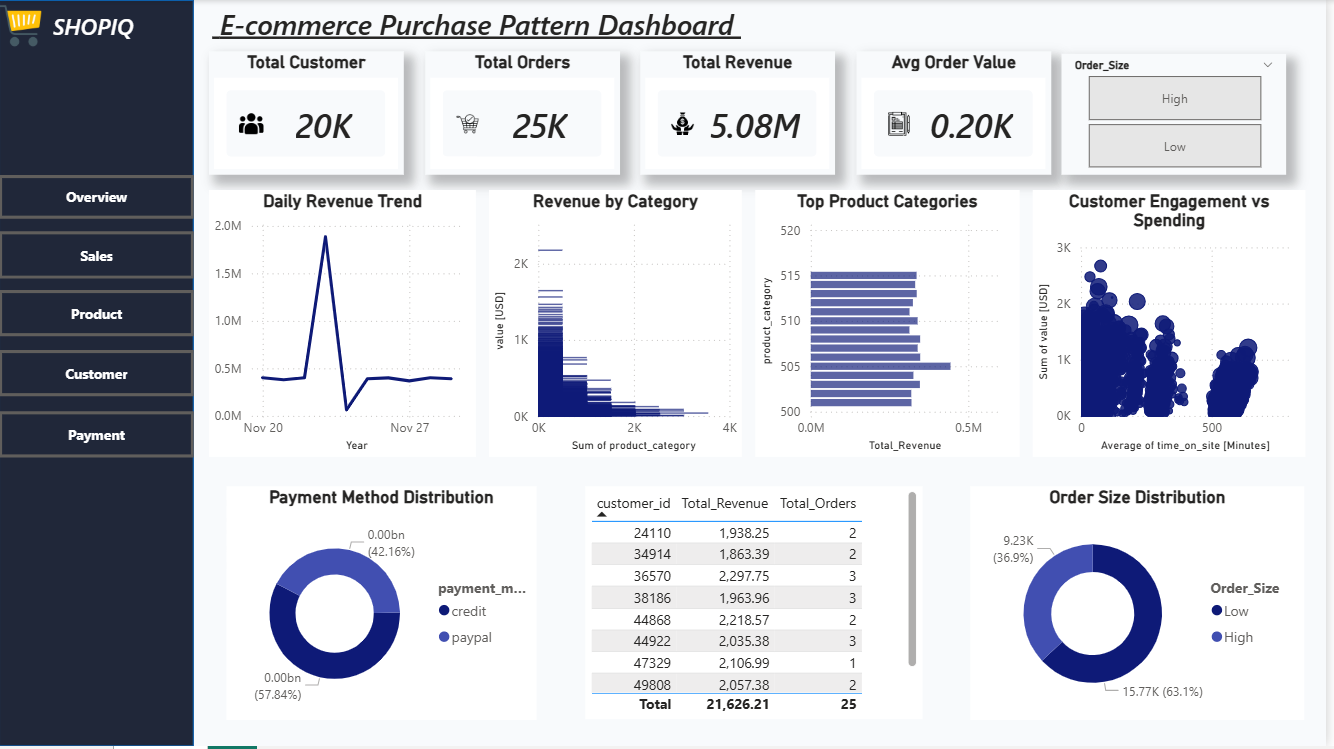

The dashboard page shown, as its layout file describes it:
{"tool":"powerbi","page":{"name":"Page 1","canvas":[1280,720],"ordinal":0},"visuals":[{"type":"shape","box":[0,0,188,720.4],"z":0},{"type":"textbox","box":[0,0,188,49.4],"z":1000},{"type":"image","box":[0,0,41.2,49.4],"z":2000},{"type":"textbox","box":[190.7,0,540.7,64.5],"z":8000},{"type":"cardVisual","title":"Total Customer","fields":{"Data":["purchase_data_exe.Total_Customers"]},"box":[203.1,49.4,188,119.4],"z":9000},{"type":"cardVisual","title":"Total Orders","fields":{"Data":["purchase_data_exe.Total_Orders"]},"box":[411.2,49.4,188,119.4],"z":10000},{"type":"cardVisual","title":"Total Revenue","fields":{"Data":["purchase_data_exe.Total_Revenue"]},"box":[619.3,49.4,188,119.4],"z":11000},{"type":"cardVisual","title":"Avg Order Value","fields":{"Data":["purchase_data_exe.Avg_Order_Value"]},"box":[827.4,49.4,188,119.4],"z":12000},{"type":"lineChart","title":"Daily Revenue Trend","fields":{"Y":["purchase_data_exe.Total_Revenue"],"Category":["purchase_data_exe.Date.Variation.Date Hierarchy.Year","purchase_data_exe.Date.Variation.Date Hierarchy.Quarter","purchase_data_exe.Date.Variation.Date Hierarchy.Month","purchase_data_exe.Date.Variation.Date Hierarchy.Day"]},"box":[203.1,183.9,258,258],"z":13000},{"type":"barChart","title":"Revenue by Category","fields":{"Y":["Sum(purchase_data_exe.product_category)"],"Category":["purchase_data_exe.value [USD]"]},"box":[473.4,183.9,244.3,258],"z":14000},{"type":"donutChart","title":"Payment Method Distribution","fields":{"Category":["purchase_data_exe.payment_method"],"Y":["CountNonNull(purchase_data_exe.customer_id)"]},"box":[219.8,468.9,299.1,225.4],"z":15000},{"type":"donutChart","title":"Order Size Distribution","fields":{"Category":["purchase_data_exe.Order_Size"],"Y":["CountNonNull(purchase_data_exe.customer_id)"]},"box":[937.7,468.9,322.8,225.4],"z":16000},{"type":"slicer","fields":{"Values":["purchase_data_exe.Order_Size"]},"box":[1025,52.1,216.8,116.6],"z":17000},{"type":"tableEx","fields":{"Values":["purchase_data_exe.customer_id","purchase_data_exe.Total_Revenue","purchase_data_exe.Total_Orders"]},"box":[565.7,469.3,325.2,225],"z":18000},{"type":"barChart","title":"Top Product Categories","fields":{"Category":["purchase_data_exe.product_category"],"Y":["purchase_data_exe.Total_Revenue"]},"box":[730,183.9,255.2,258],"z":19000},{"type":"scatterChart","title":"Customer Engagement vs Spending","fields":{"X":["Avg(purchase_data_exe.time_on_site [Minutes])"],"Y":["Sum(purchase_data_exe.value [USD])"],"Size":["Avg(purchase_data_exe.clicks_in_site)"],"Category":["purchase_data_exe.customer_id"]},"box":[997.6,183.9,263.5,258],"z":20000},{"type":"actionButton","title":"oVER","box":[0,168.9,188.2,42.2],"z":21000},{"type":"actionButton","title":"oVER","box":[0,279.9,188.2,44.6],"z":22000},{"type":"actionButton","title":"oVER","box":[0,223.2,188.2,45.8],"z":23000},{"type":"actionButton","title":"oVER","box":[0,337.8,188.2,44.6],"z":24000},{"type":"actionButton","title":"oVER","box":[0,396.9,188.2,44.6],"z":25000}]}

Visuals, with their boxes on the page's 1280x720 design canvas (x1, y1, x2, y2). These are canvas units, not pixel positions in the 1334x749 screenshot, which may show the page scaled, cropped or inside an application window:
shape: bbox(0, 0, 188, 720)
textbox: bbox(0, 0, 188, 49)
image: bbox(0, 0, 41, 49)
textbox: bbox(191, 0, 731, 64)
"Total Customer" cardVisual: bbox(203, 49, 391, 169)
"Total Orders" cardVisual: bbox(411, 49, 599, 169)
"Total Revenue" cardVisual: bbox(619, 49, 807, 169)
"Avg Order Value" cardVisual: bbox(827, 49, 1015, 169)
"Daily Revenue Trend" lineChart: bbox(203, 184, 461, 442)
"Revenue by Category" barChart: bbox(473, 184, 718, 442)
"Payment Method Distribution" donutChart: bbox(220, 469, 519, 694)
"Order Size Distribution" donutChart: bbox(938, 469, 1260, 694)
slicer - purchase_data_exe.Order_Size: bbox(1025, 52, 1242, 169)
tableEx - purchase_data_exe.customer_id x purchase_data_exe.Total_Revenue: bbox(566, 469, 891, 694)
"Top Product Categories" barChart: bbox(730, 184, 985, 442)
"Customer Engagement vs Spending" scatterChart: bbox(998, 184, 1261, 442)
"oVER" actionButton: bbox(0, 169, 188, 211)
"oVER" actionButton: bbox(0, 280, 188, 324)
"oVER" actionButton: bbox(0, 223, 188, 269)
"oVER" actionButton: bbox(0, 338, 188, 382)
"oVER" actionButton: bbox(0, 397, 188, 442)
